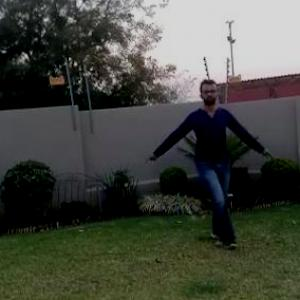land: (153, 86, 256, 220)
